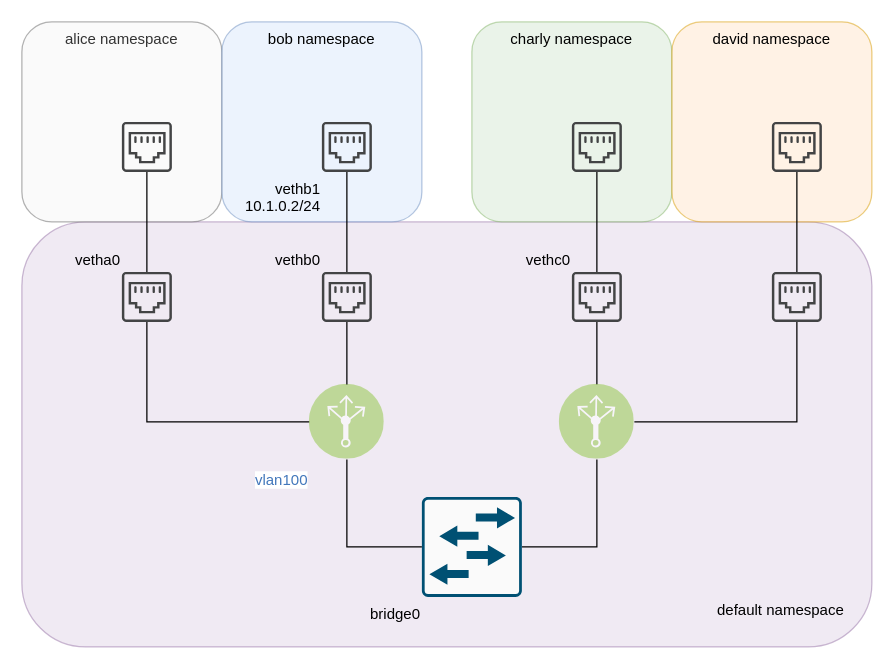
This 894x669 diagram has some shape labels left out. Each missing label, with the box of its shape:
vetha1 10.1.0.1/24: (121, 121, 171, 171)
vethc1 10.2.0.1/24: (571, 121, 621, 171)
vethd0: (771, 271, 821, 321)
vethd1 10.2.0.2/24: (771, 121, 821, 171)
vlan200: (559, 384, 634, 459)
